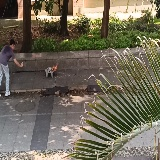fire: (51, 65, 57, 71)
